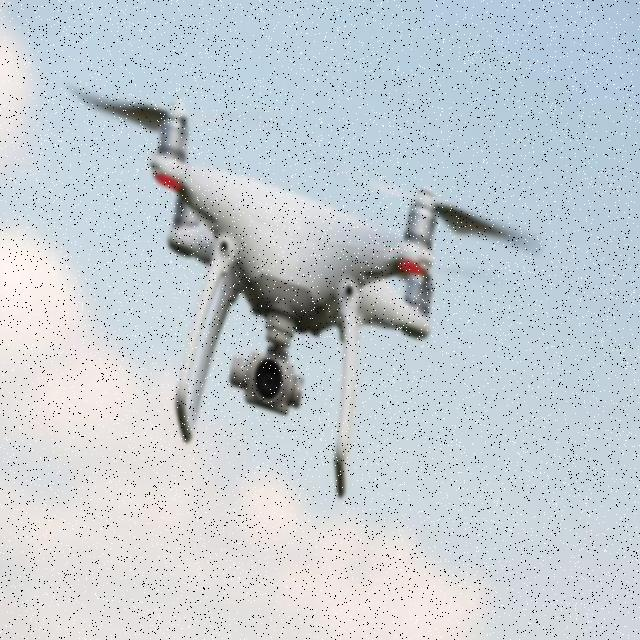UAV: (136, 99, 440, 503)
